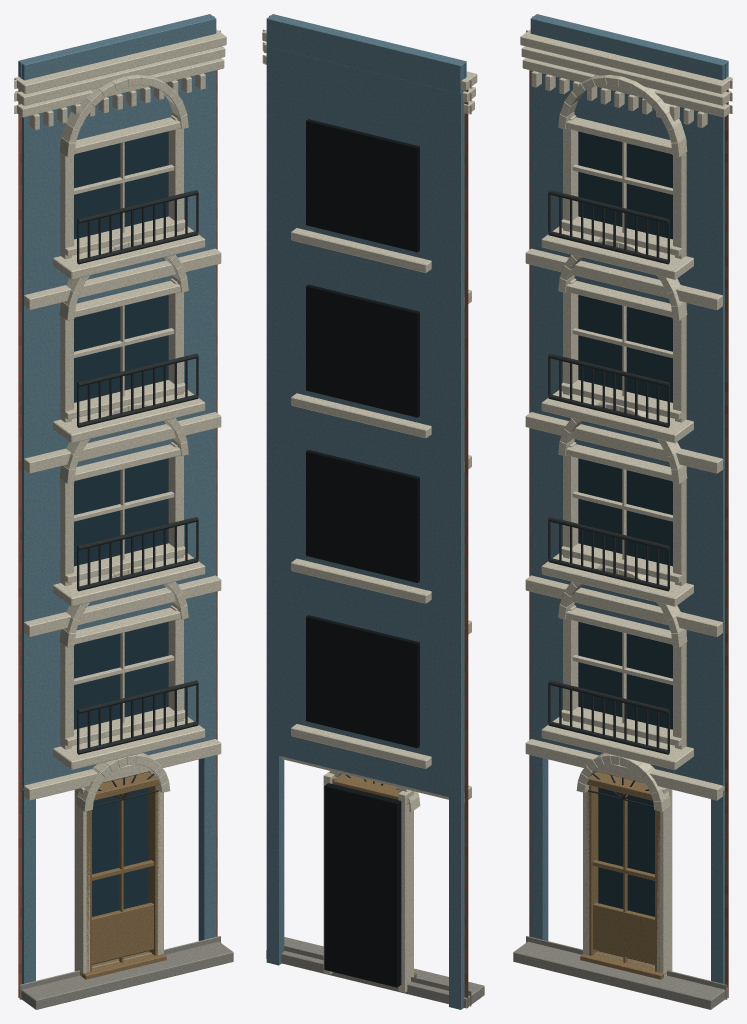
File: OFFC1_lod1.glb
The picture shows the model from 3 angles, left to right: view 1: azimuth 30°, elevation 25°; view 2: azimuth 150°, elevation 25°; view 3: azimuth 330°, elevation 25°; orthographic projection.
Parts seen in each view (by area): view 1: OFFC1_FRONT_LOD1; view 2: OFFC1_FRONT_LOD1; view 3: OFFC1_FRONT_LOD1.
Part boxes in pixels (left/top/right/bottom): OFFC1_FRONT_LOD1: left=14, top=14, right=233, bottom=1009; OFFC1_FRONT_LOD1: left=262, top=14, right=484, bottom=1009; OFFC1_FRONT_LOD1: left=513, top=14, right=732, bottom=1009.
Bounding box in the file's own units: 3.44 × 14.86 × 0.8592.
9 materials, 7 textured.
